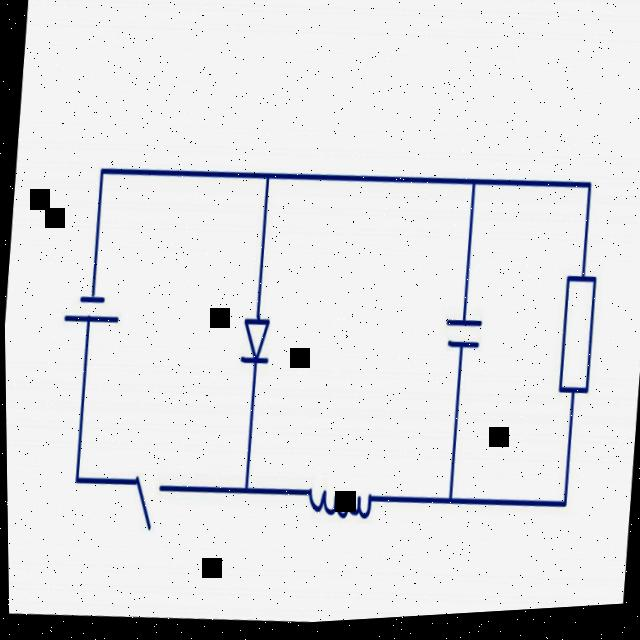capacitor: (433, 290, 488, 391)
diode: (218, 287, 292, 383)
inductor: (300, 460, 382, 555)
resistor: (549, 263, 607, 411)
source: (51, 260, 142, 345)
switch: (102, 448, 188, 566)
